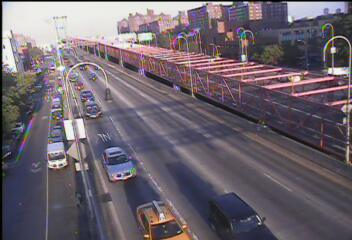neg: (139, 33, 153, 51), (15, 32, 22, 41)
